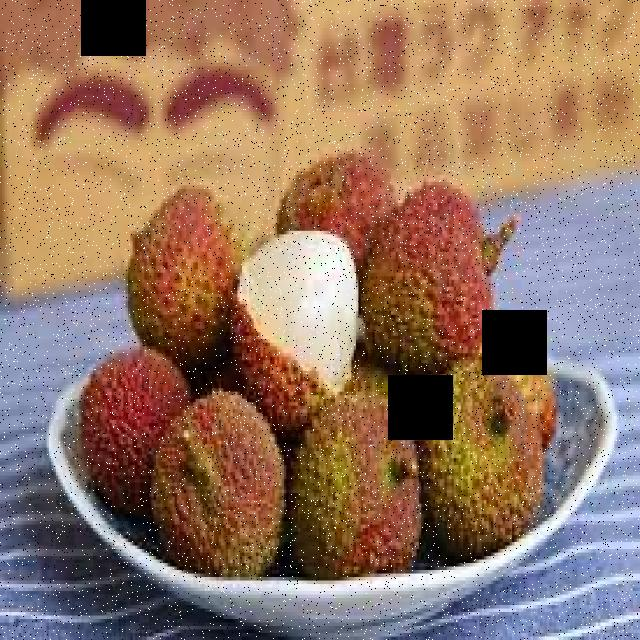lychee: (102, 162, 542, 538)
